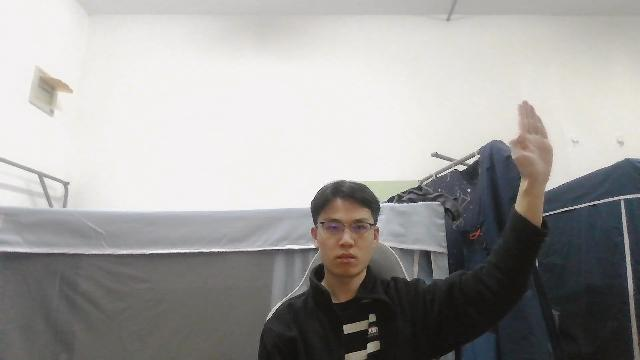five: (507, 96, 555, 185)
